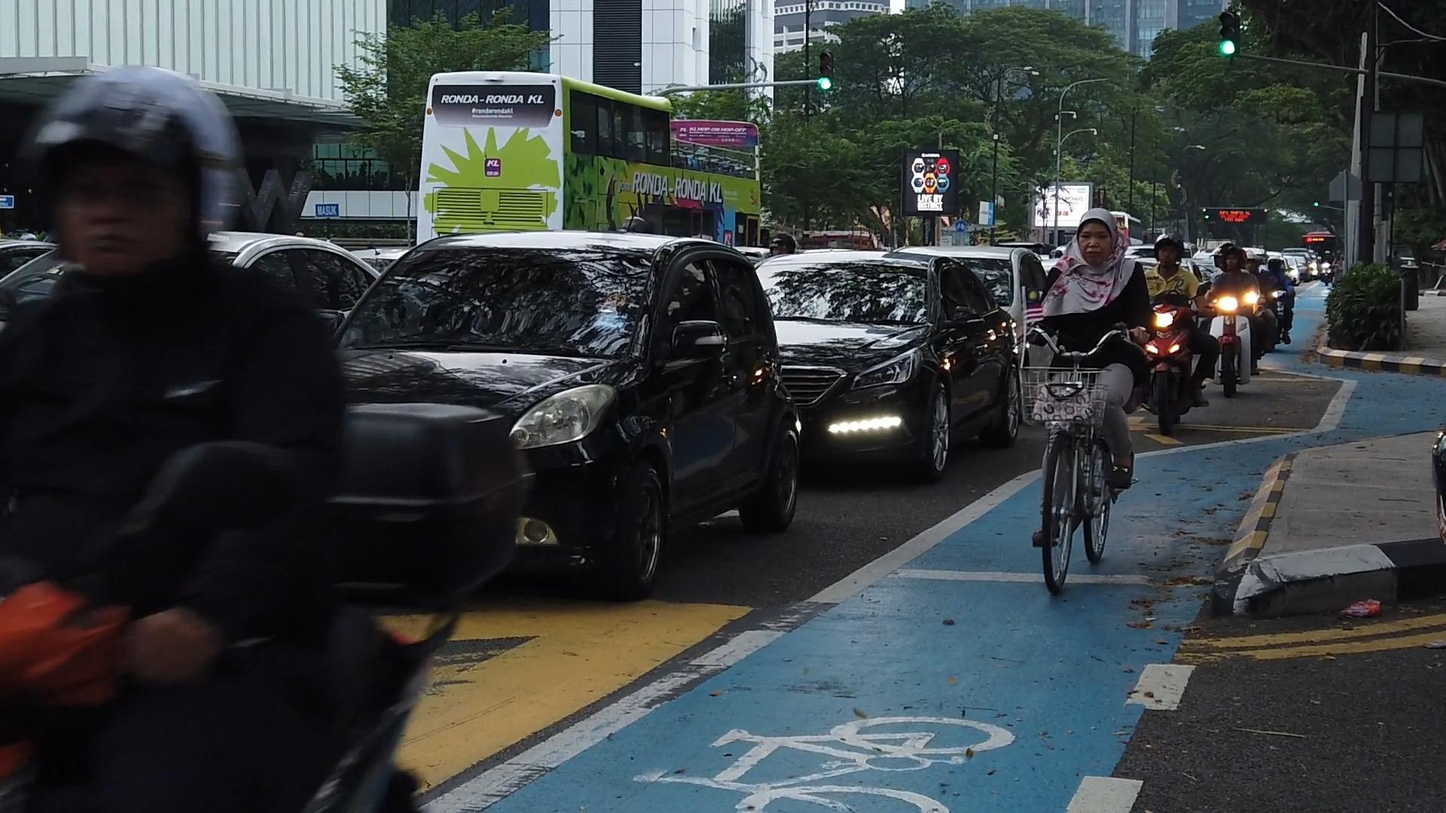bicyclist: (1010, 208, 1158, 596)
driver: (3, 64, 527, 813), (1140, 234, 1221, 436), (1204, 243, 1267, 399)
helmet: (32, 62, 238, 280), (1154, 234, 1183, 267)
no-helmet: (1077, 208, 1117, 267)
